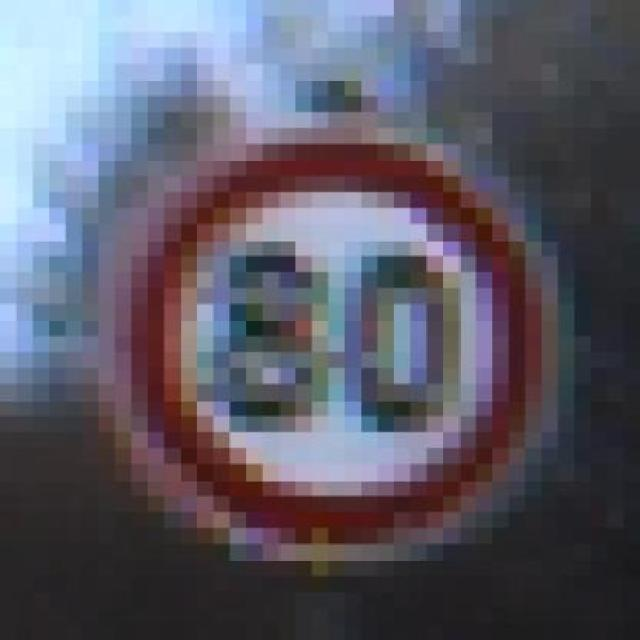forb_speed_over_80: (130, 145, 545, 553)
